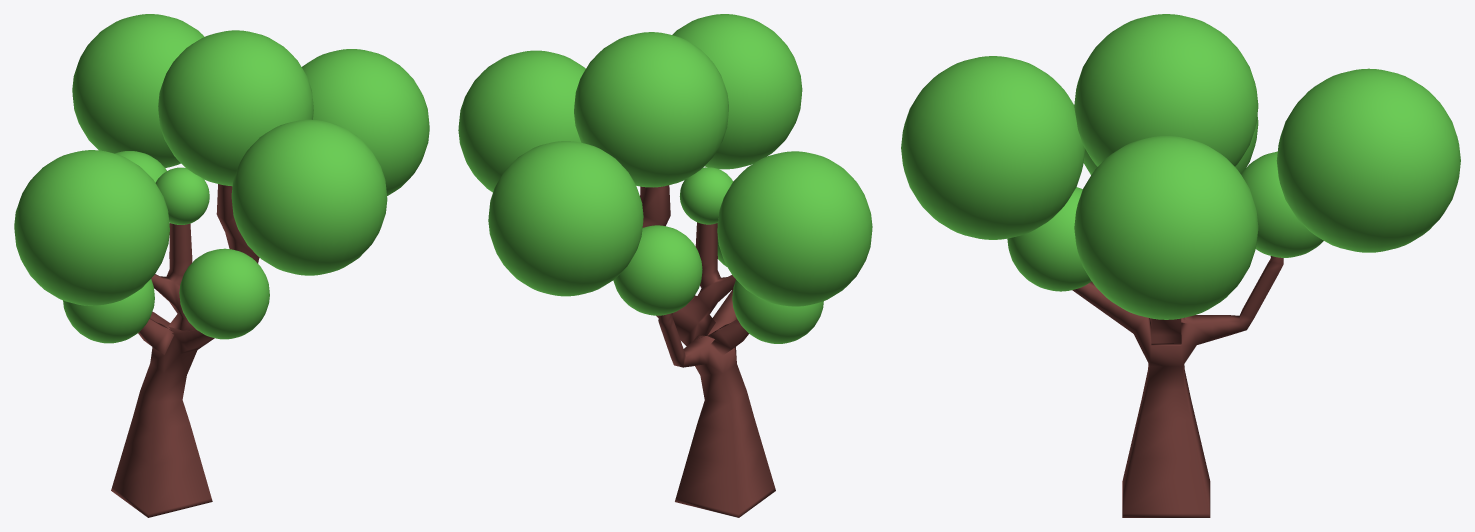
Rendered from Tree1.glb.
3 renders of one model, left to right at view 1: azimuth 30°, elevation 25°; view 2: azimuth 150°, elevation 25°; view 3: azimuth 270°, elevation 25°, orthographic. The views are drawn at different scales.
Visible parts, largest first — view 1: Sphere.006, Cube; view 2: Sphere.006, Cube; view 3: Sphere.006, Cube.
Part boxes in pixels (x1,y1,x2,y2): Sphere.006: (14, 14, 429, 343); Cube: (111, 184, 259, 517); Sphere.006: (458, 14, 872, 343); Cube: (640, 185, 775, 517); Sphere.006: (901, 14, 1460, 319); Cube: (1072, 256, 1283, 517).
Size of the model in its own units: 5.84 by 6.23 by 6.08.
